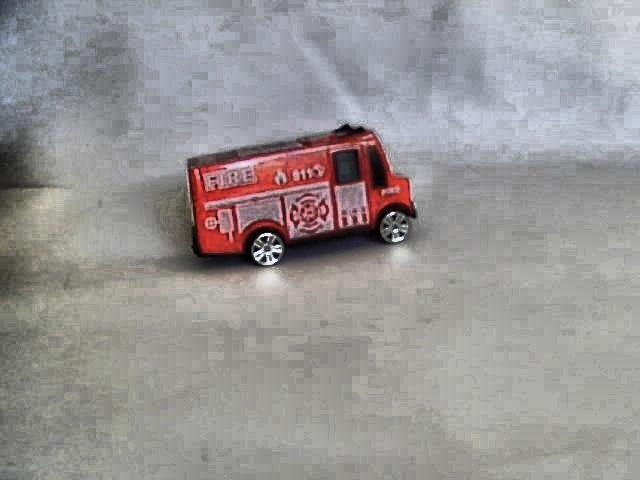fire_truck: (177, 119, 422, 276)
